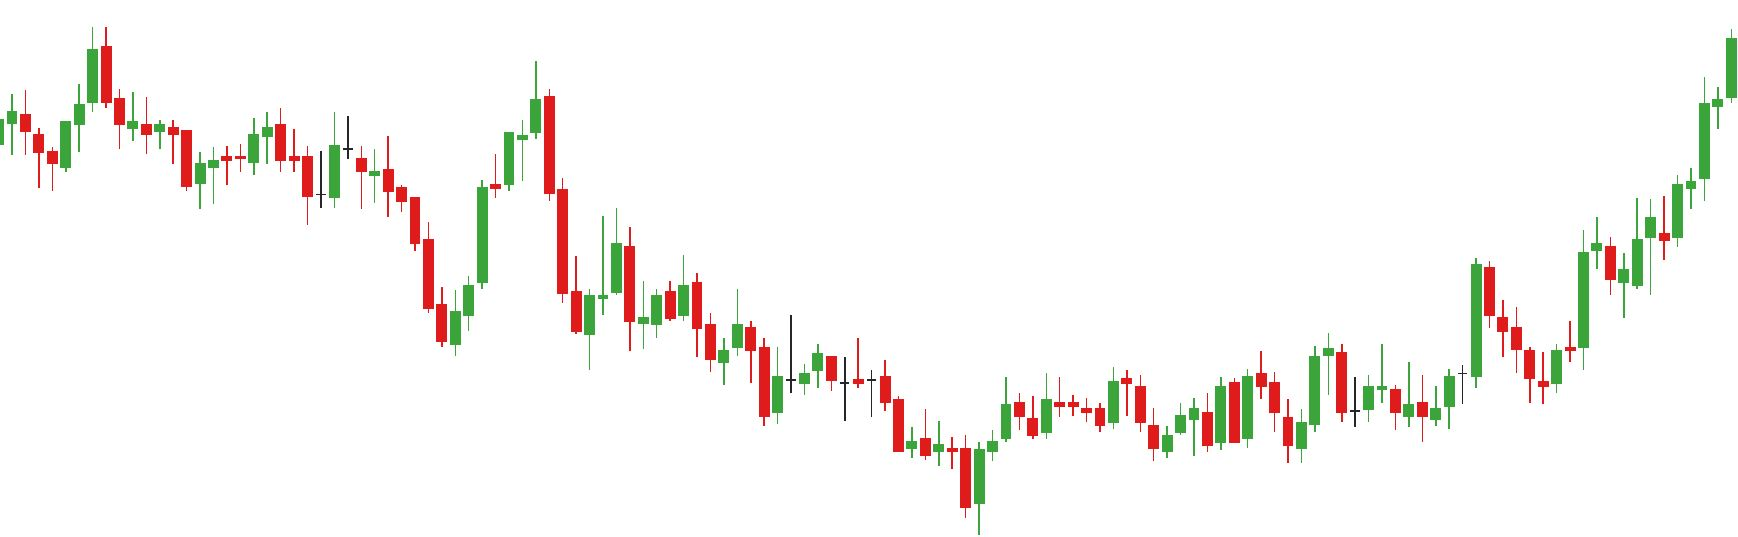sell: (20, 23, 115, 134)
